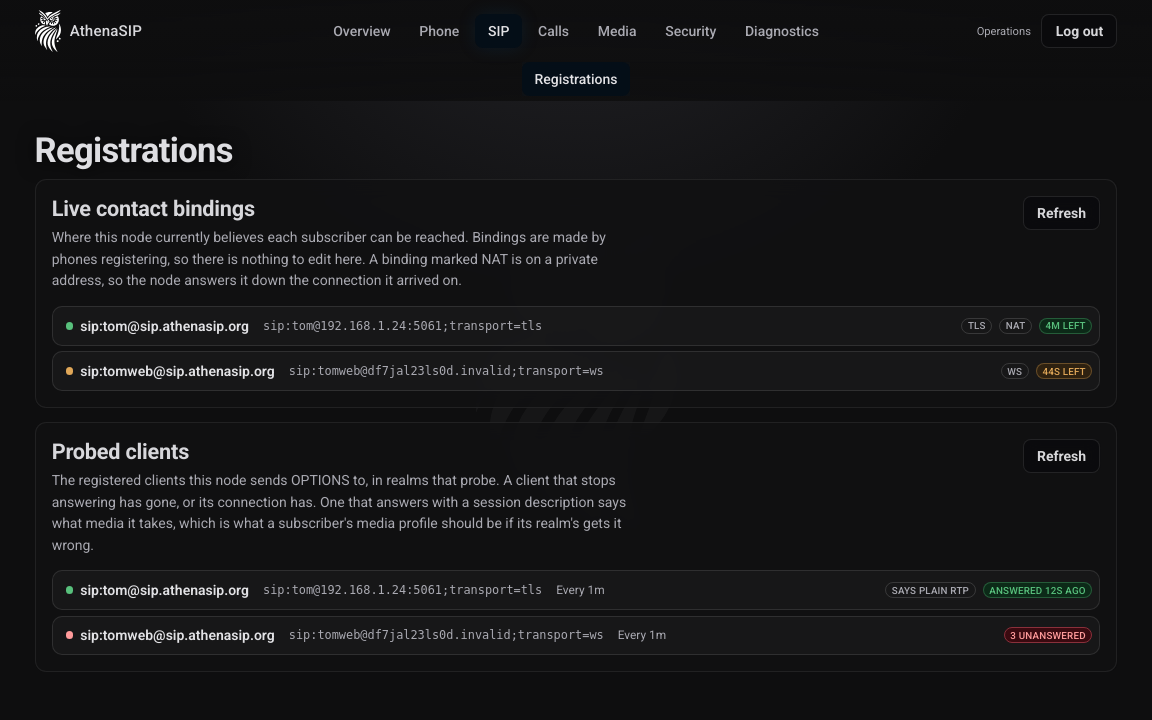
Test case: App › takes away a screen when its role is removed mid-session
The width and height of the screenshot is (1152, 720).
Expected: the element "sip:tom@sip.athenasip.org" is shown, [66,318,542,334]
Click the button "Refresh" in the row of "Live contact bindings": (1061, 213) [1023,196,1100,230]
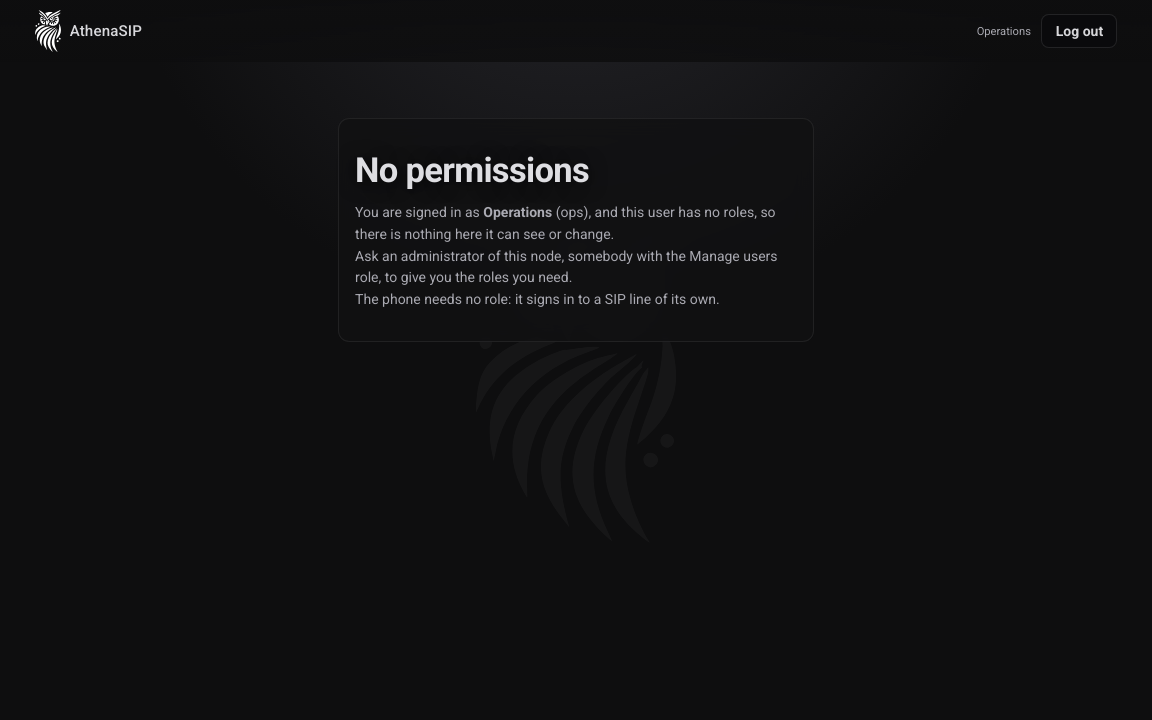
Expected: the heading "No permissions" is shown, [355,150,589,190]
